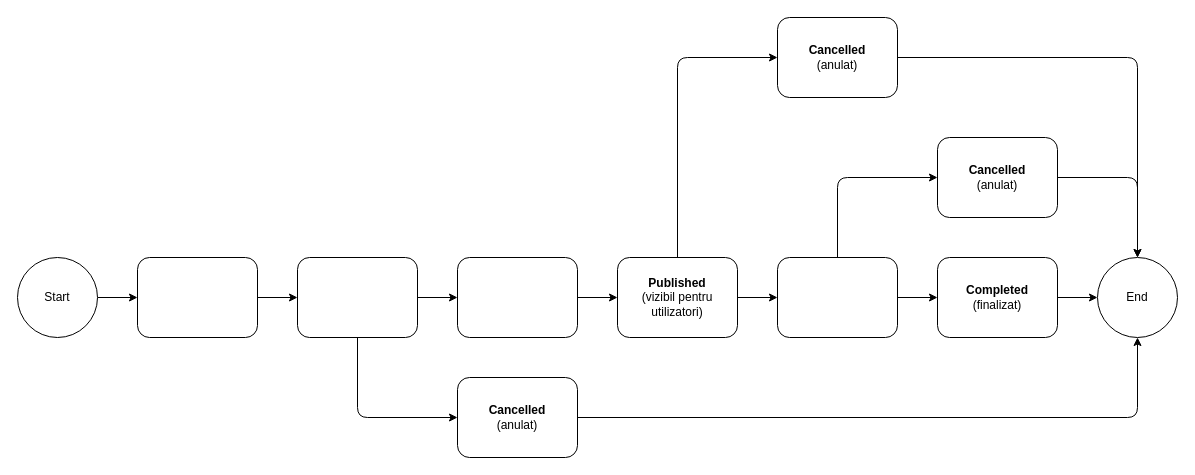
Image size: 1195x475. Some labels were removed from this diagram. The centre of each missing label's shape, as x and y in pixels:
Approved (validat de admin): the point at 517,297
Draft (eveniment creat, dar nepublicat): the point at 197,297
Ongoing (în desfășurare): the point at 837,297
Pending Approval (trimis la admin): the point at 357,297
